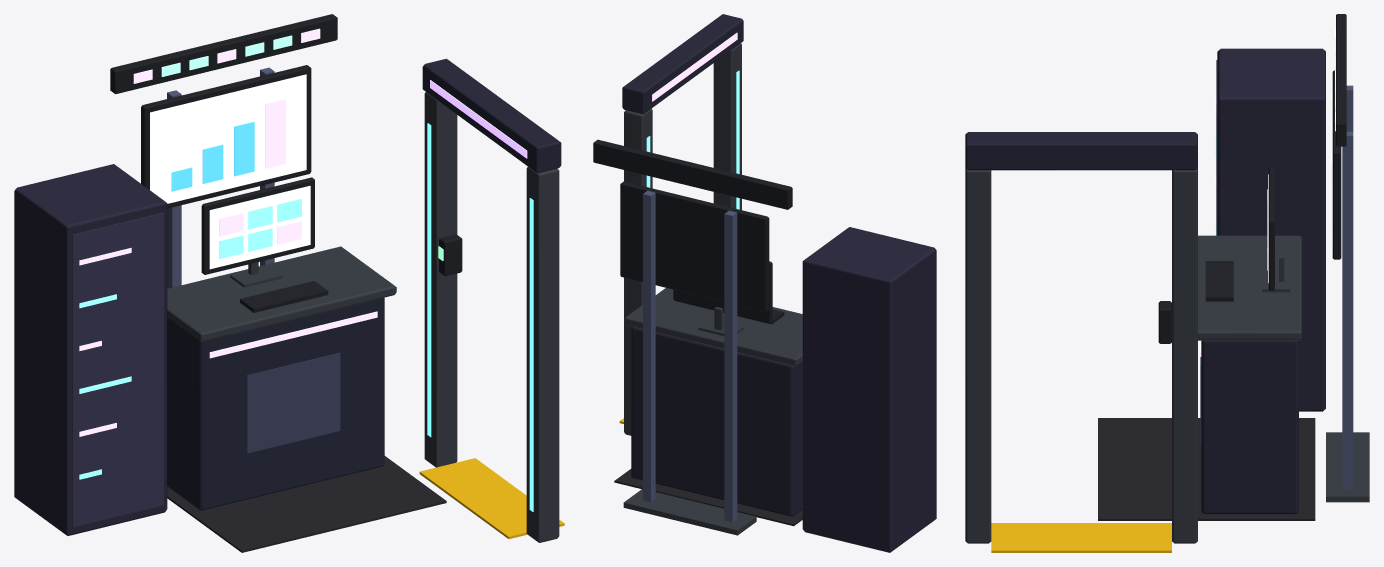
File: station_special_3.glb
The picture shows the model from 3 angles, left to right: view 1: azimuth 30°, elevation 25°; view 2: azimuth 150°, elevation 25°; view 3: azimuth 270°, elevation 25°; orthographic projection. The views are drawn at different scales.
Visible parts, largest first — view 1: station_special_3; view 2: station_special_3; view 3: station_special_3.
Part boxes in pixels (box(x1,y1,x2,y2)): station_special_3: box(14, 14, 564, 552); station_special_3: box(593, 14, 936, 552); station_special_3: box(965, 14, 1369, 552).
Bounding box in the file's own units: 2.07 × 2.04 × 1.86.
